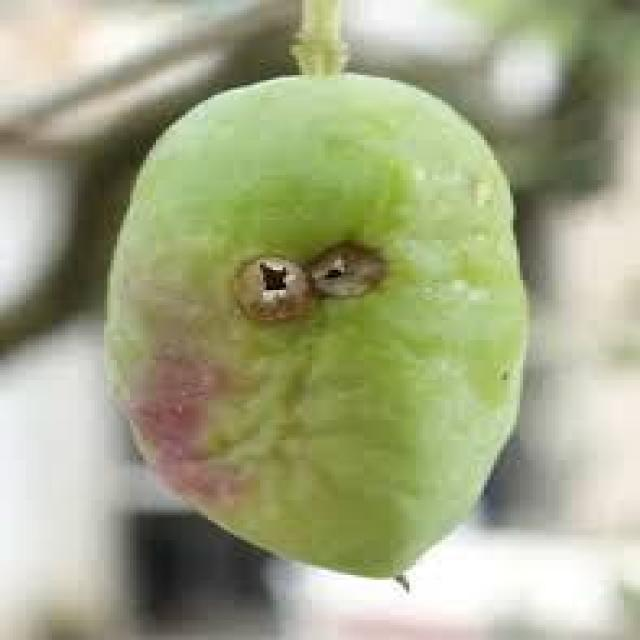Olive Fruit Fly: (107, 72, 526, 575)
